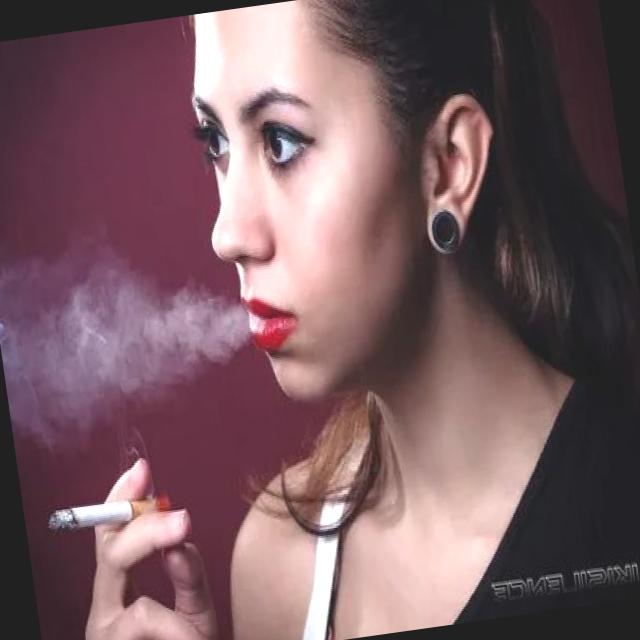cigarette: (39, 484, 175, 542)
